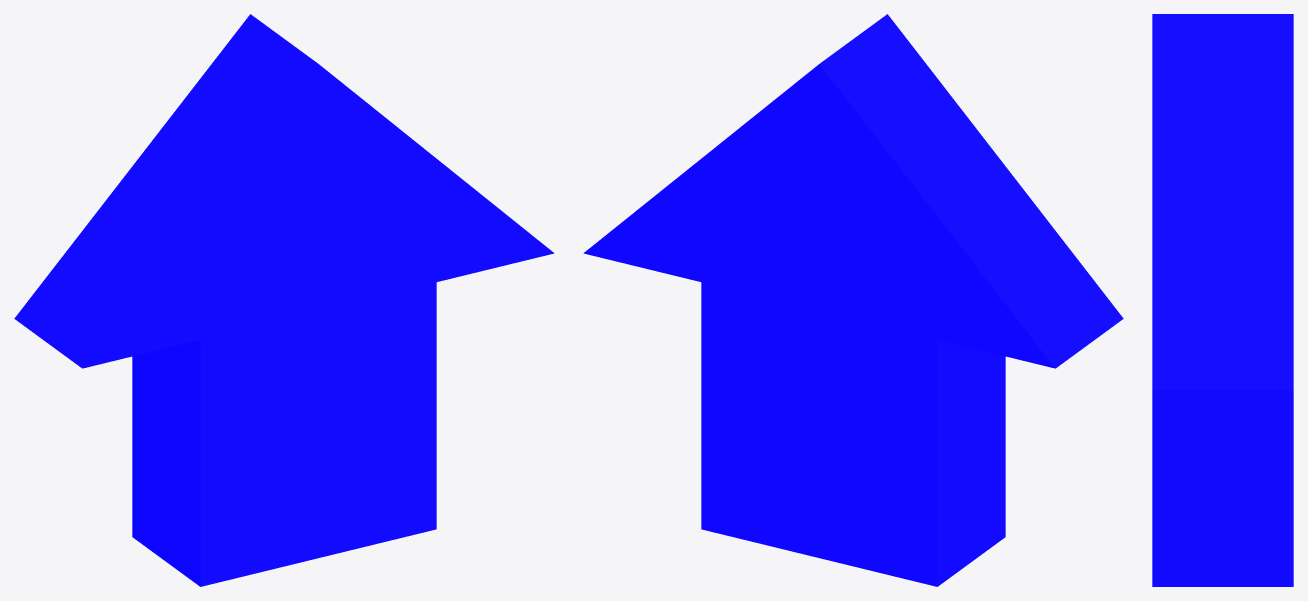
Rendered from up_withRotation.glb.
3 renders of one model, left to right at view 1: azimuth 30°, elevation 25°; view 2: azimuth 150°, elevation 25°; view 3: azimuth 270°, elevation 25°, orthographic. The views are drawn at different scales.
Parts seen in each view (by area): view 1: PowerUP; view 2: PowerUP; view 3: PowerUP.
Boxes of the visible parts, bbox=[...] form: PowerUP: bbox=[14, 14, 554, 586]; PowerUP: bbox=[583, 14, 1123, 586]; PowerUP: bbox=[1152, 14, 1293, 586].
Size of the model in its own units: 4 by 4 by 1.
